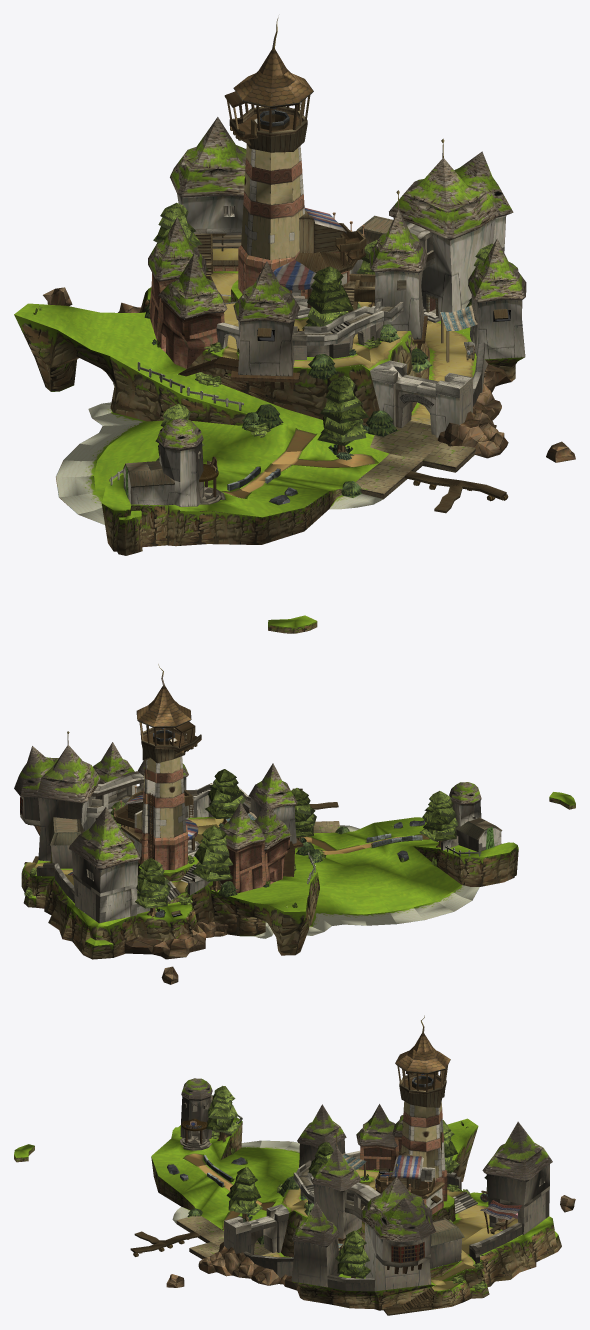
The model's file is island_1_new.glb.
3 views of the same model, one above another, from view 1: azimuth 30°, elevation 25°; view 2: azimuth 150°, elevation 25°; view 3: azimuth 270°, elevation 25° (orthographic). The views are drawn at different scales.
Parts seen in each view (by area): view 1: mesh-6, mesh-17, mesh-18, mesh-28, mesh-14-alpha, mesh-12, mesh-30, mesh-16, mesh-29, mesh-9, mesh-3, mesh-20 (+6 smaller); view 2: mesh-6, mesh-28, mesh-17, mesh-18, mesh-14-alpha, mesh-16, mesh-12, mesh-20, mesh-23, mesh-15, mesh-9, mesh-3 (+4 smaller); view 3: mesh-17, mesh-6, mesh-18, mesh-28, mesh-14-alpha, mesh-12, mesh-30, mesh-20, mesh-3, mesh-9, mesh-29, mesh-16 (+9 smaller).
Boxes of the visible parts, x1,y1,x2,y2 form: mesh-6: (14, 47, 524, 555); mesh-17: (123, 194, 525, 506); mesh-18: (148, 107, 526, 450); mesh-28: (14, 280, 470, 520); mesh-14-alpha: (153, 202, 493, 461); mesh-12: (241, 17, 444, 425); mesh-30: (206, 248, 476, 414); mesh-16: (149, 245, 349, 368); mesh-29: (355, 421, 475, 499); mesh-9: (195, 92, 474, 472); mesh-3: (205, 114, 508, 513); mesh-20: (43, 287, 575, 462); mesh-6: (21, 684, 518, 959); mesh-28: (27, 817, 518, 945); mesh-17: (20, 773, 501, 923); mesh-18: (14, 728, 481, 870); mesh-14-alpha: (24, 769, 458, 908); mesh-16: (123, 769, 289, 893); mesh-12: (67, 664, 186, 837); mesh-20: (124, 783, 228, 984); mesh-23: (27, 817, 502, 845); mesh-15: (113, 721, 303, 876); mesh-9: (128, 720, 227, 915); mesh-3: (24, 727, 338, 864); mesh-17: (180, 1095, 549, 1291); mesh-6: (151, 1032, 561, 1310); mesh-18: (181, 1074, 552, 1247); mesh-28: (151, 1117, 557, 1289); mesh-14-alpha: (206, 1085, 487, 1290); mesh-12: (261, 1015, 517, 1257); mesh-30: (282, 1169, 517, 1291); mesh-20: (166, 1195, 575, 1296); mesh-3: (130, 1072, 517, 1315); mesh-9: (186, 1064, 515, 1249); mesh-29: (176, 1216, 271, 1259); mesh-16: (359, 1109, 447, 1214).
Size of what is drawn, in the model's own units: 3.85 by 2.33 by 4.96.
30 materials, 30 textured.
